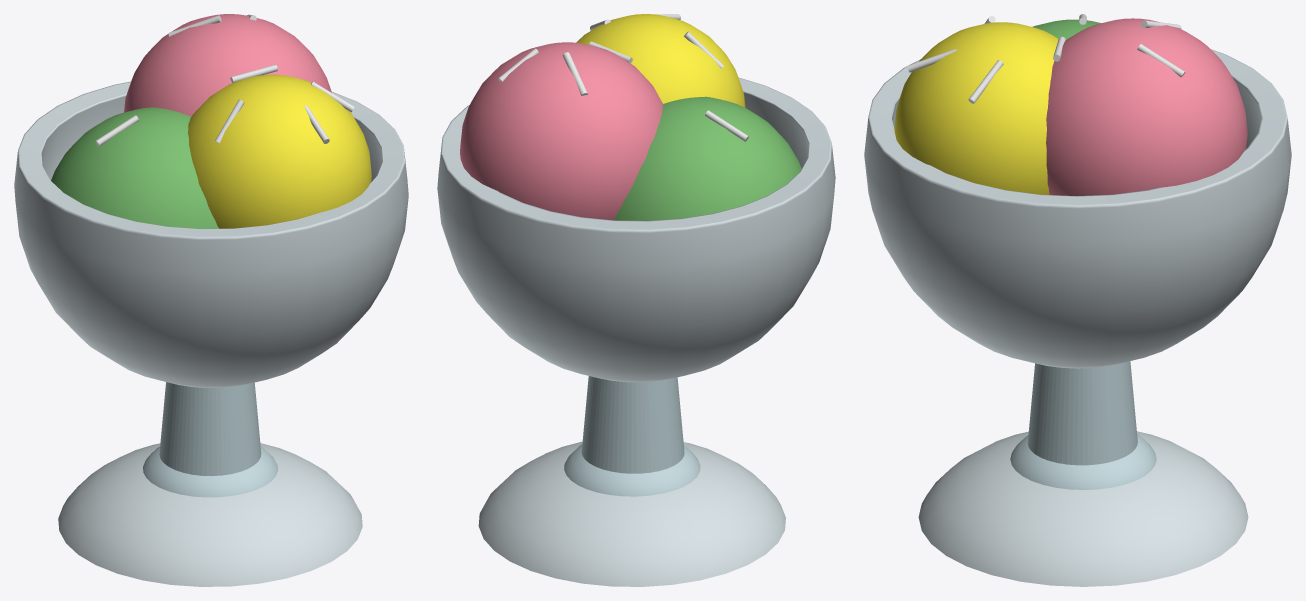
File: bowloficecream.fbx
3 views of the same model, side by side, from view 1: azimuth 30°, elevation 25°; view 2: azimuth 150°, elevation 25°; view 3: azimuth 270°, elevation 25° (orthographic). The views are drawn at different scales.
Visible parts, largest first — view 1: Sphere.002, Sphere, Sphere.003, Sphere.004, Sphere.001, Cylinder.004, Sphere.008; view 2: Sphere.002, Sphere, Sphere.001, Sphere.004, Cylinder.004, Sphere.003, Sphere.008; view 3: Sphere.002, Sphere, Sphere.001, Sphere.003, Cylinder.004, Sphere.008, Sphere.004.
Boxes of the visible parts, <box> form: Sphere.002: <box>14,81,408,387</box>; Sphere: <box>58,443,362,586</box>; Sphere.003: <box>188,74,371,228</box>; Sphere.004: <box>51,107,218,228</box>; Sphere.001: <box>124,14,331,116</box>; Cylinder.004: <box>159,382,261,476</box>; Sphere.008: <box>143,446,277,497</box>; Sphere.002: <box>437,77,835,382</box>; Sphere: <box>478,441,785,586</box>; Sphere.001: <box>460,42,663,220</box>; Sphere.004: <box>614,96,801,220</box>; Cylinder.004: <box>581,376,684,473</box>; Sphere.003: <box>576,14,745,107</box>; Sphere.008: <box>564,444,700,496</box>; Sphere.002: <box>864,49,1291,368</box>; Sphere: <box>918,431,1248,586</box>; Sphere.001: <box>1046,18,1247,195</box>; Sphere.003: <box>894,22,1058,194</box>; Cylinder.004: <box>1027,361,1137,465</box>; Sphere.008: <box>1010,434,1156,489</box>; Sphere.004: <box>1032,19,1101,39</box>.
Size of the model in its own units: 1598 by 2128 by 1598.
